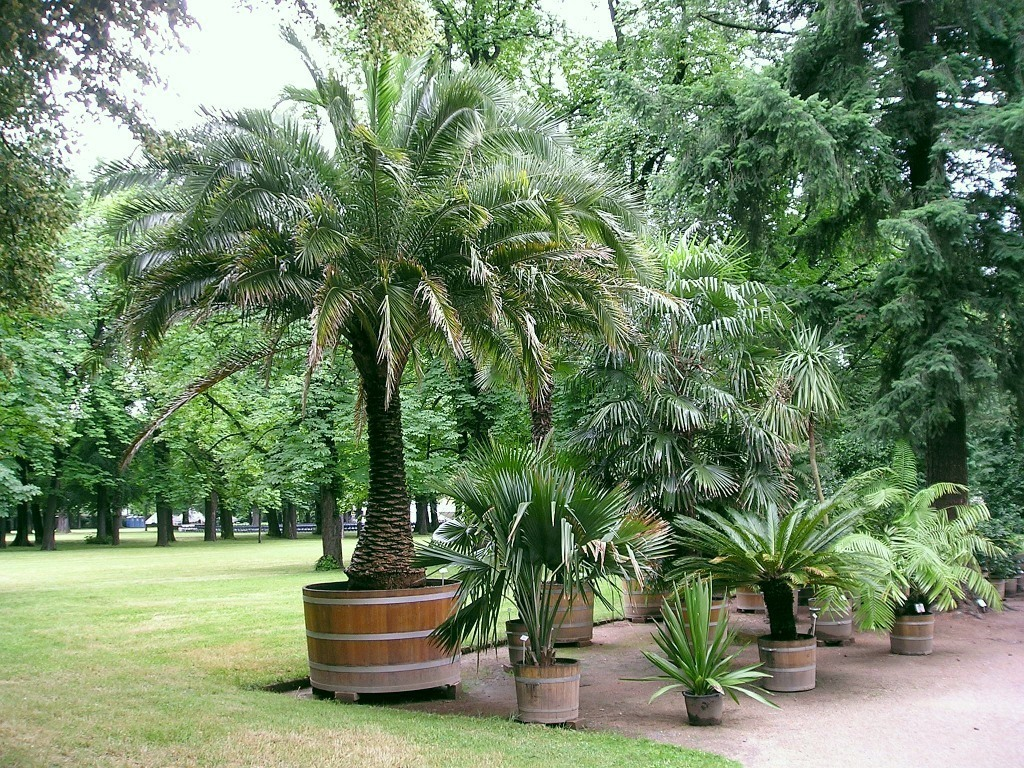Tree: (0, 0, 1024, 589)
